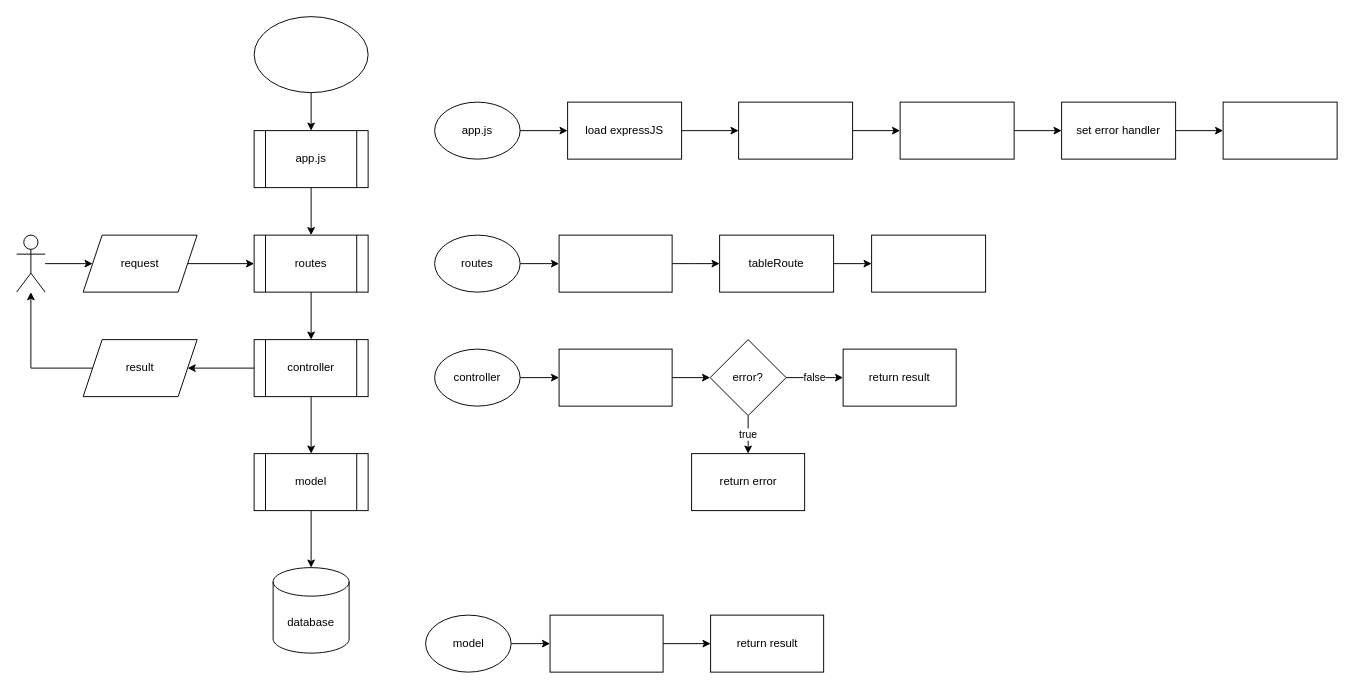
The diagram is 1354 pixels wide and 689 high, and some of its shapes have lost their labels. Here are the shapes that lost their labels. From the top down, the centre of each, then its label:
point 310,54: Mulai
point 795,130: set port server
point 956,130: set env variables (DB credentials)
point 1279,130: load mainRouter
point 30,263: user
point 615,263: set routes
point 928,263: CRUD http methods
point 615,377: load model functions
point 606,643: run db queries
